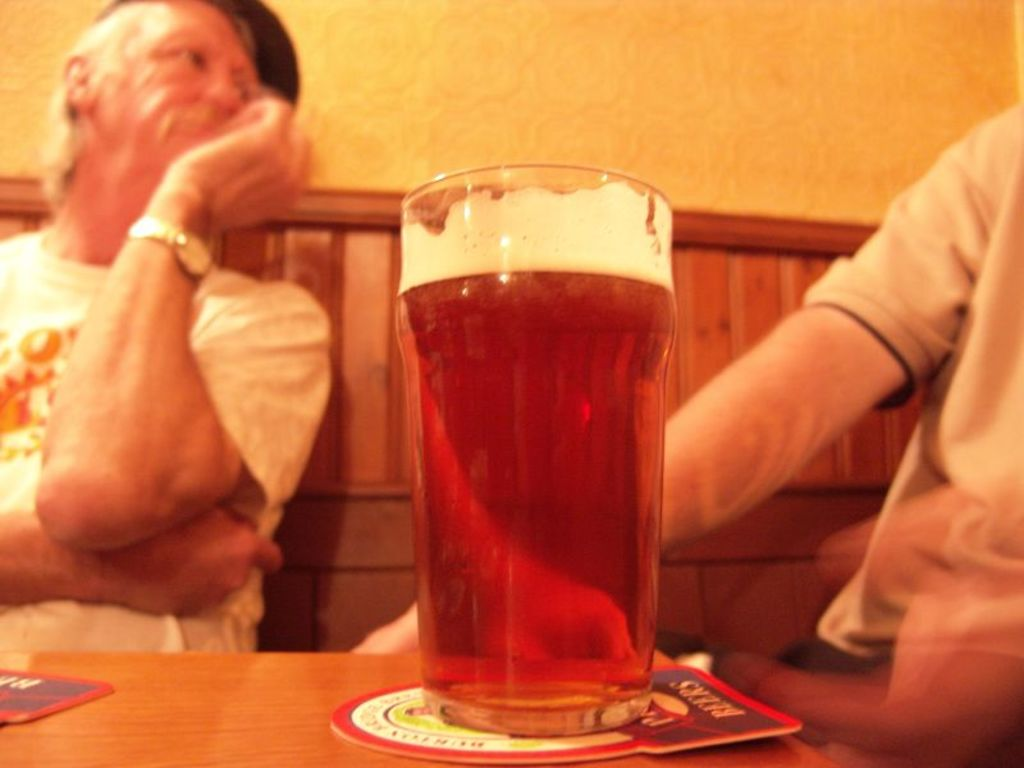Beer: (387, 179, 684, 747)
